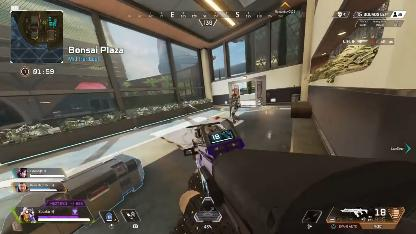Target: (229, 91, 241, 121)
